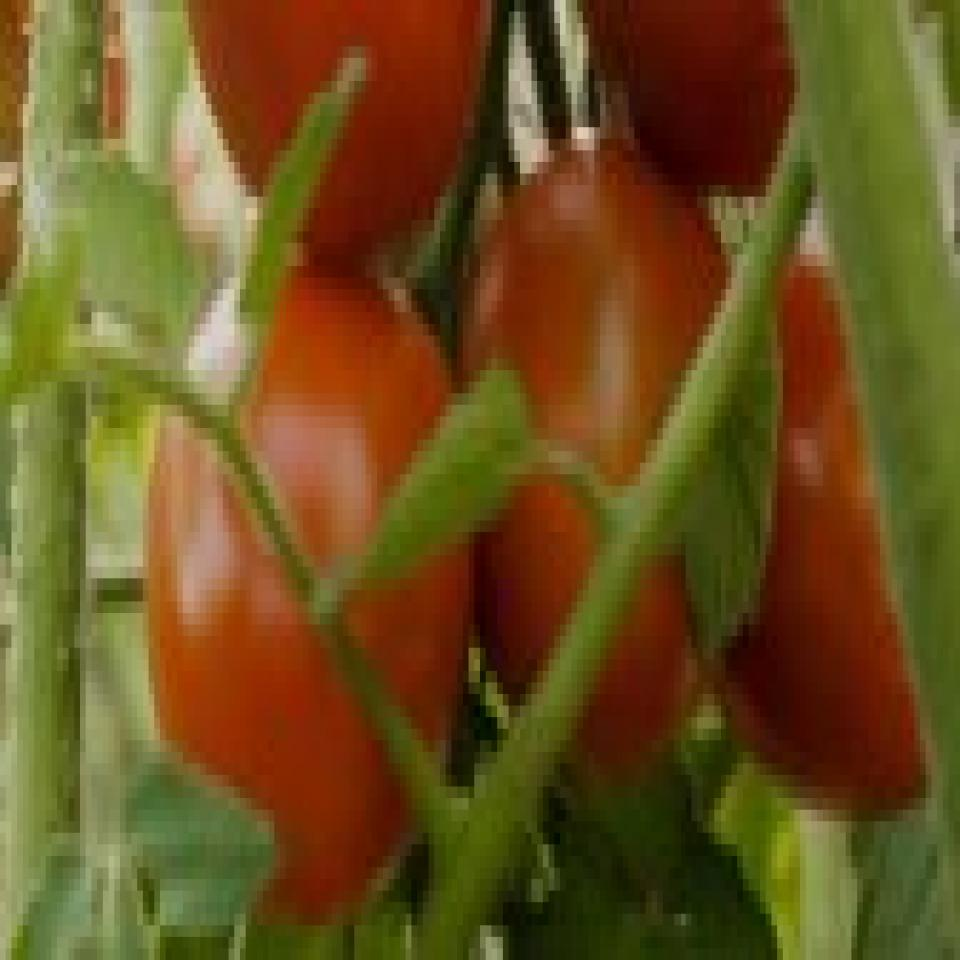Healthy: (158, 235, 476, 884), (714, 196, 960, 832), (483, 158, 699, 709), (179, 4, 506, 274), (582, 0, 788, 173)
